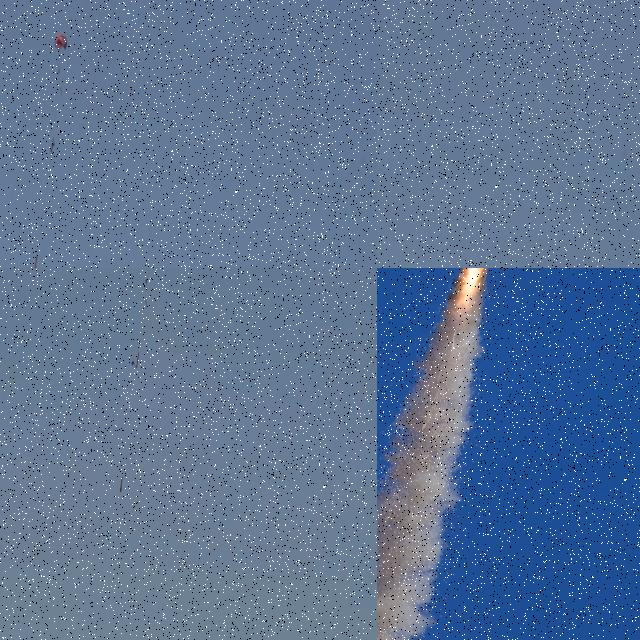Rocket: (119, 475, 123, 493), (34, 253, 37, 268)
